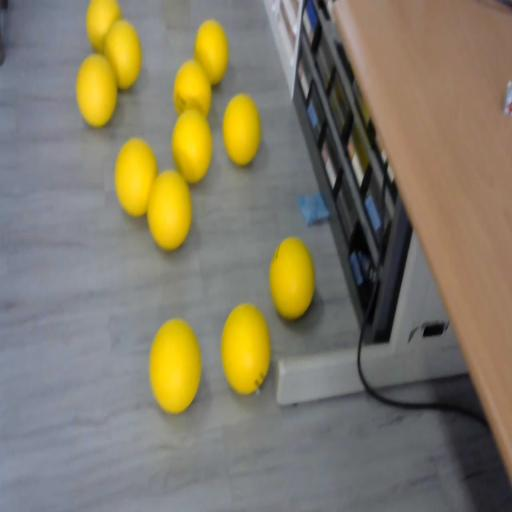FUEL: (148, 317, 202, 413), (220, 302, 272, 396), (268, 234, 316, 320), (146, 168, 192, 250), (113, 136, 158, 218), (170, 108, 214, 184), (76, 54, 118, 128), (222, 93, 262, 165), (104, 20, 142, 91), (172, 58, 212, 119)
